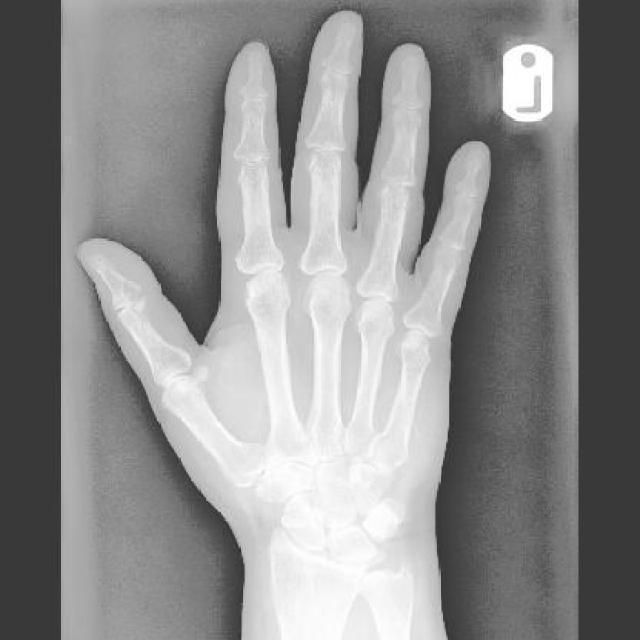Fracture: (372, 411, 417, 460)
